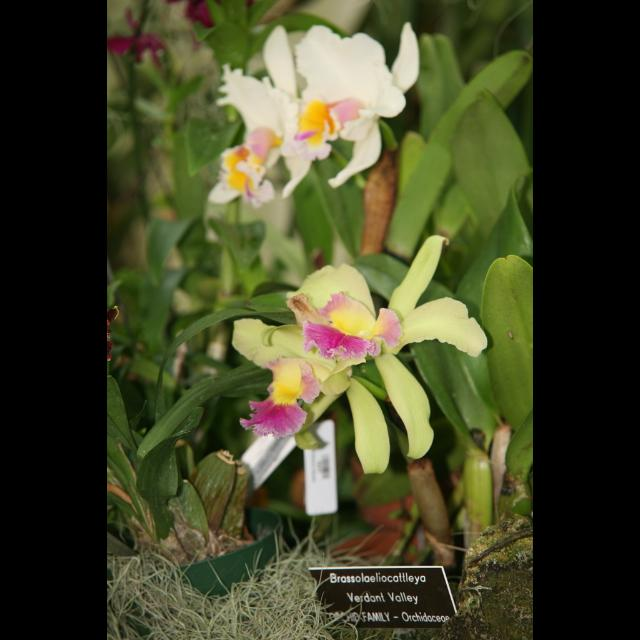Flower: (238, 246, 478, 432), (209, 24, 419, 204)
